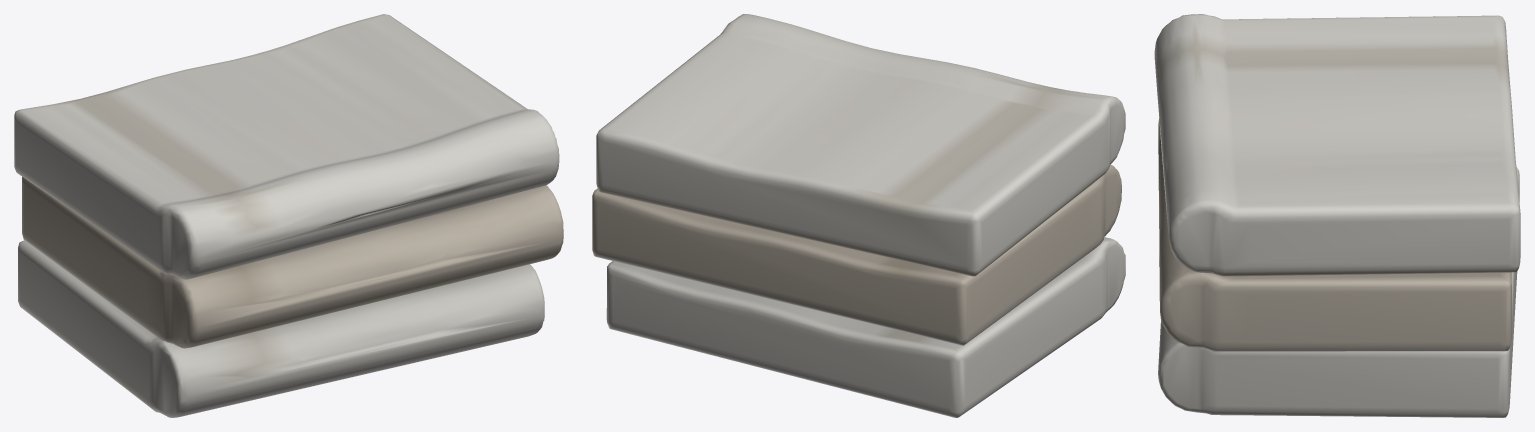
File: towels-balanced-f4501b9df2.glb
3 renders of one model, left to right at view 1: azimuth 30°, elevation 25°; view 2: azimuth 150°, elevation 25°; view 3: azimuth 270°, elevation 25°, orthographic. The views are drawn at different scales.
Parts seen in each view (by area): view 1: towels; view 2: towels; view 3: towels.
Part boxes in pixels (x1,y1,x2,y2): towels: [14, 14, 563, 417]; towels: [592, 14, 1125, 417]; towels: [1154, 14, 1520, 417].
Bounding box in the file's own units: 0.3358 × 0.1738 × 0.2595.
